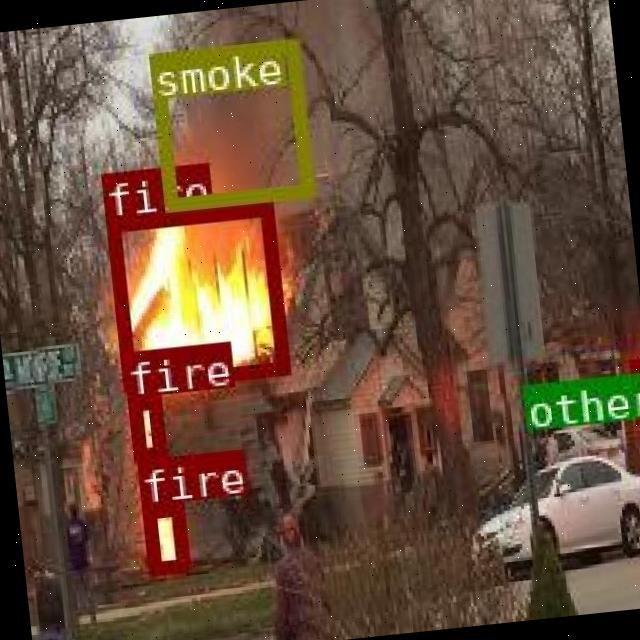fire: (103, 201, 286, 389), (141, 499, 186, 572), (126, 392, 164, 458), (633, 358, 640, 422)
smoke: (147, 36, 311, 208)
